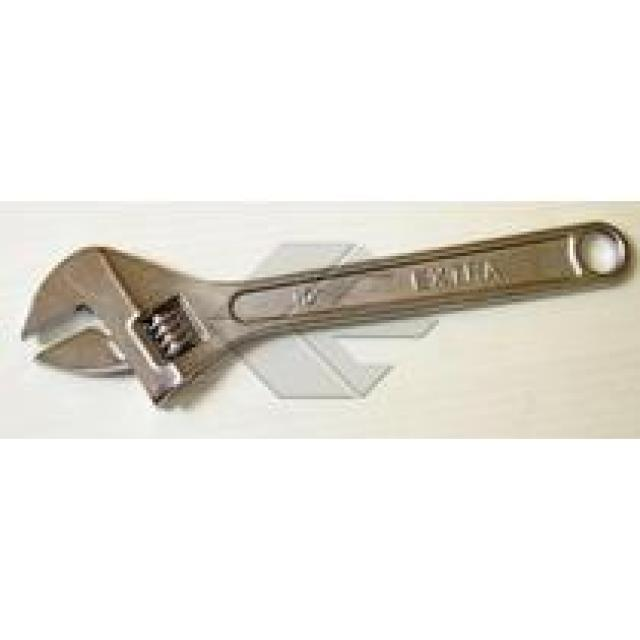wrench: (17, 210, 640, 420)
